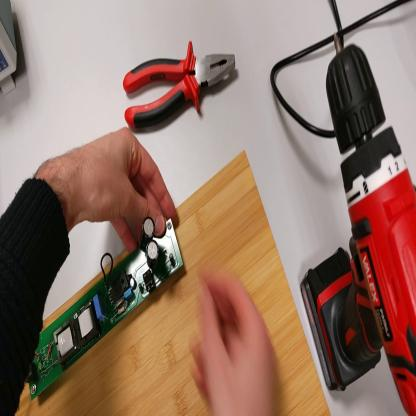electric screwdriver: (301, 34, 416, 415)
hand: (63, 130, 182, 257), (191, 266, 279, 415)
high voltage board: (26, 216, 184, 401)
oscilloscope: (2, 2, 17, 95)
pliers: (124, 42, 237, 132)
working area: (18, 153, 332, 416)
